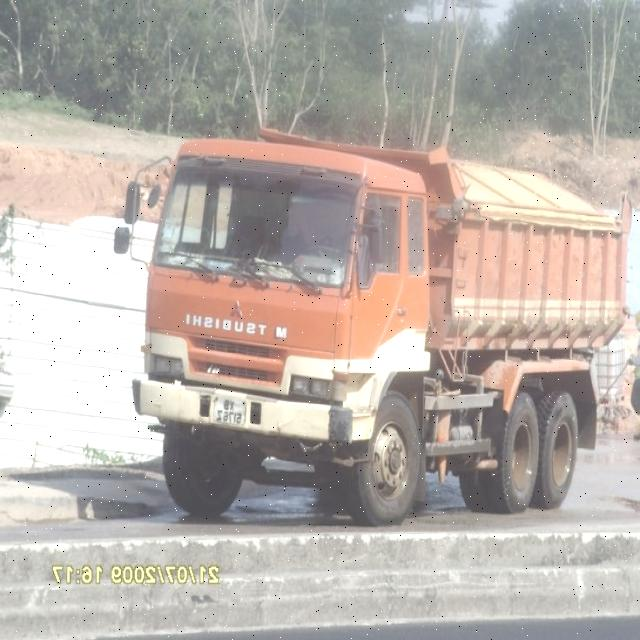truck: (125, 127, 633, 526)
